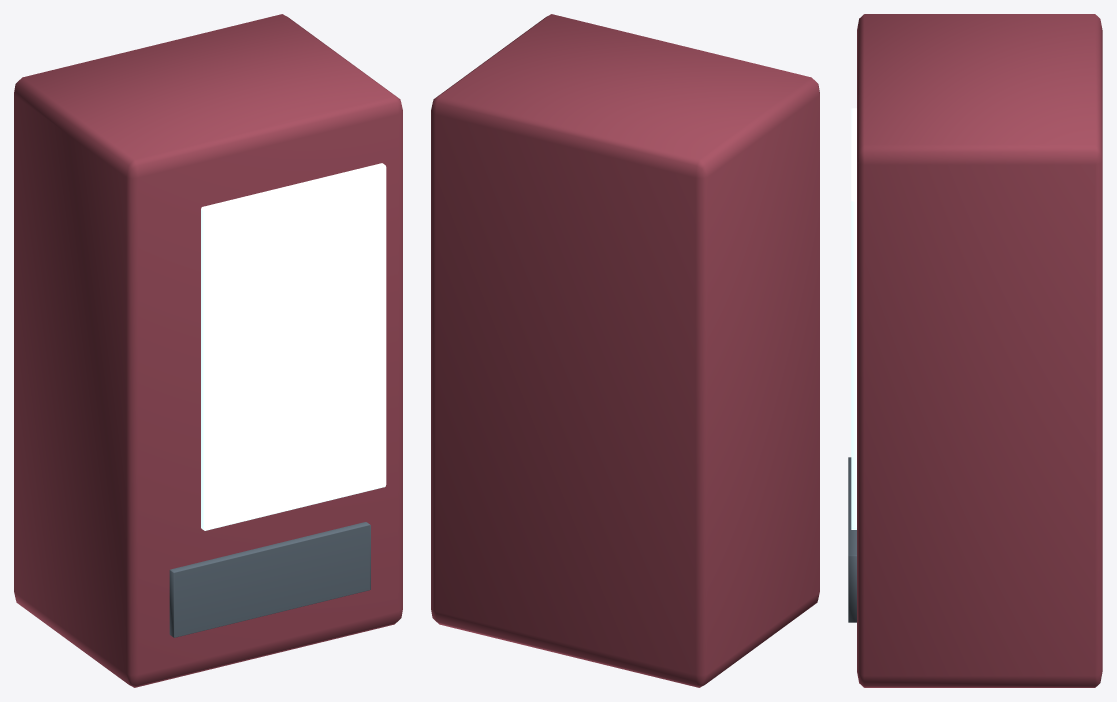
The model's file is SM_School_VendingMachine.fbx.
3 renders of one model, left to right at view 1: azimuth 30°, elevation 25°; view 2: azimuth 150°, elevation 25°; view 3: azimuth 270°, elevation 25°, orthographic. The views are drawn at different scales.
Parts seen in each view (by area): view 1: SM_School_VendingMachine; view 2: SM_School_VendingMachine; view 3: SM_School_VendingMachine.
Part boxes in pixels (bbox=[...]): SM_School_VendingMachine: bbox=[14, 14, 402, 687]; SM_School_VendingMachine: bbox=[431, 14, 819, 687]; SM_School_VendingMachine: bbox=[848, 14, 1102, 687].
Bounding box in the file's own units: 1.15 × 2.1 × 0.89.
